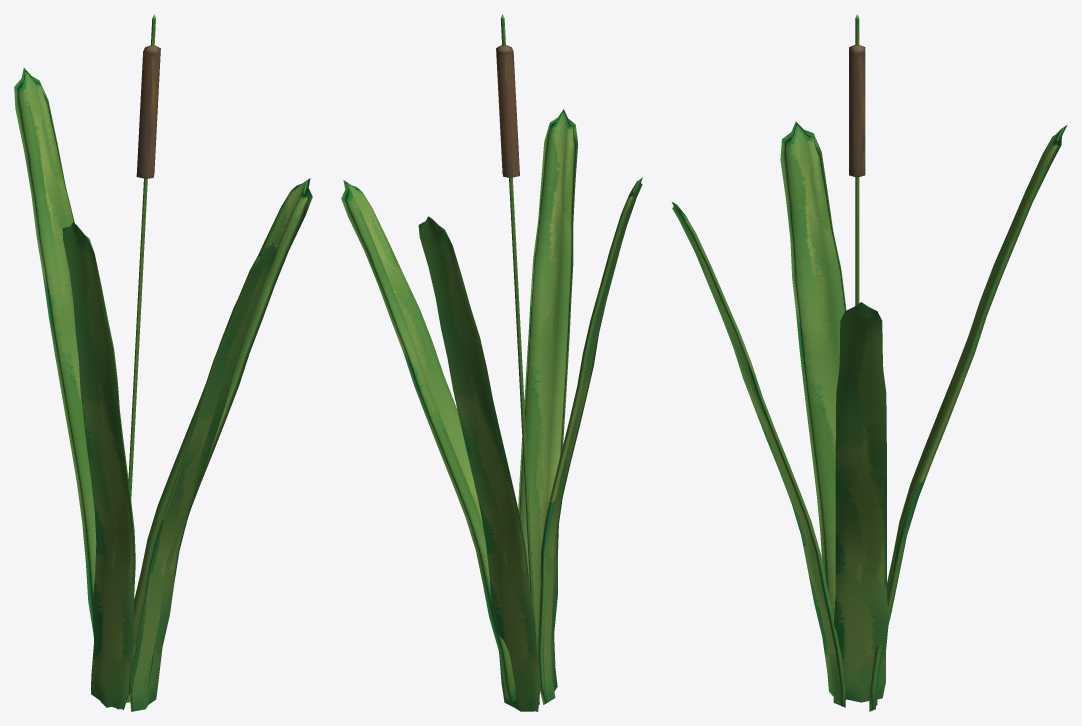
Rendered from Cattail_02.fbx.
The picture shows the model from 3 angles, left to right: view 1: azimuth 30°, elevation 25°; view 2: azimuth 150°, elevation 25°; view 3: azimuth 270°, elevation 25°; orthographic projection. The views are drawn at different scales.
Visible parts, largest first — view 1: Cattail_09; view 2: Cattail_09; view 3: Cattail_09.
Part boxes in pixels (box(x1,y1,x2,y2)): Cattail_09: box(14, 14, 312, 711); Cattail_09: box(341, 14, 642, 711); Cattail_09: box(672, 14, 1067, 711).
Size of the model in its own units: 5.65 by 13.7 by 6.98.
